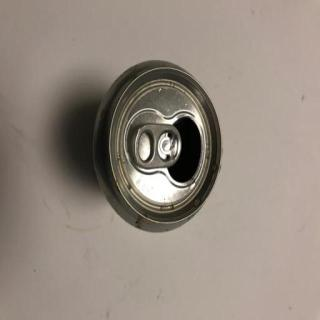Anorganik: (89, 54, 225, 234)
